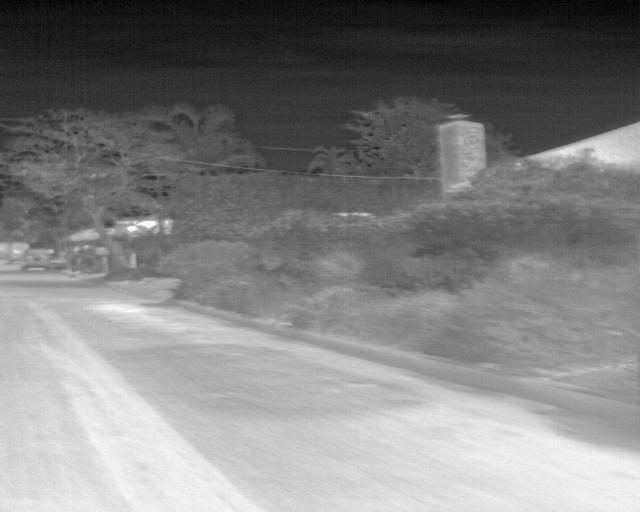car: (25, 248, 52, 272), (8, 241, 29, 263)
